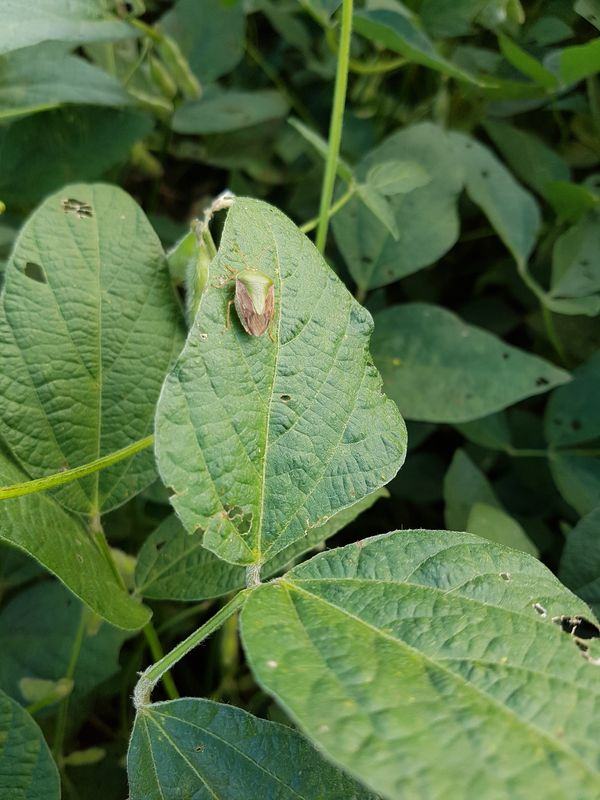Edessa_meditabunda: (211, 257, 290, 351)
